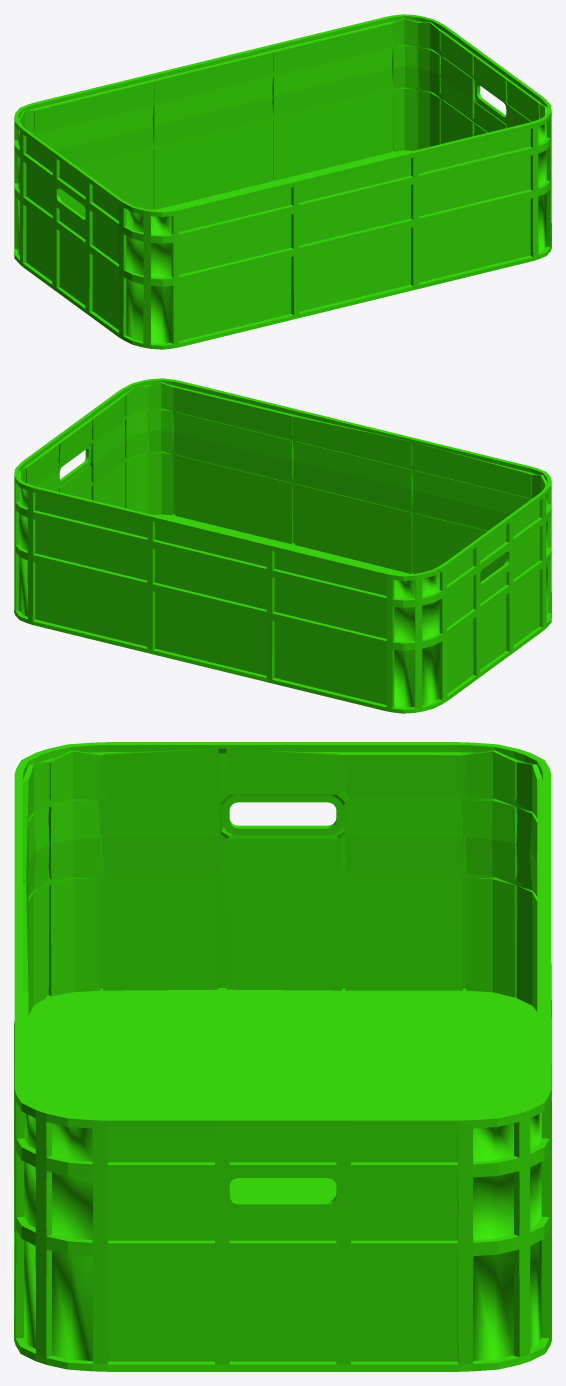
The model's file is plastic_basket.fbx.
3 views of the same model, one above another, from view 1: azimuth 30°, elevation 25°; view 2: azimuth 150°, elevation 25°; view 3: azimuth 270°, elevation 25° (orthographic). The views are drawn at different scales.
Parts seen in each view (by area): view 1: basket; view 2: basket; view 3: basket.
Boxes of the visible parts, box(x1,y1,x2,y2) form: basket: box(14, 14, 551, 349); basket: box(14, 378, 551, 713); basket: box(14, 742, 551, 1371).
Size of the model in its own units: 345 by 106 by 207.
